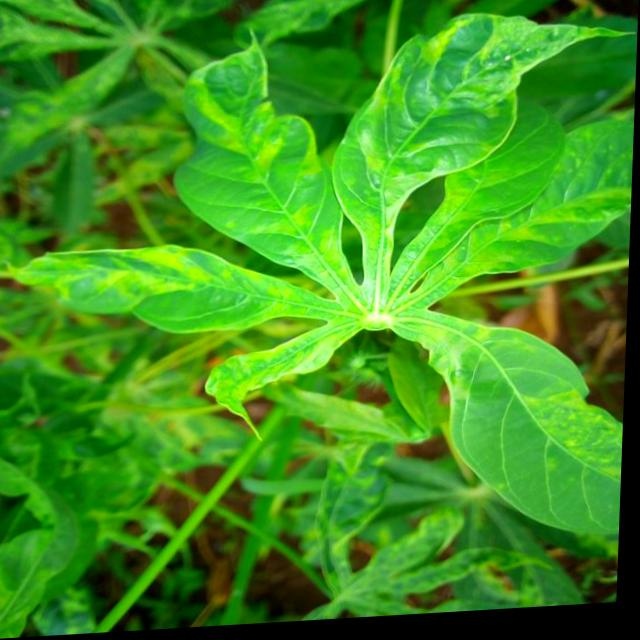Mosaico: (98, 66, 593, 466)
